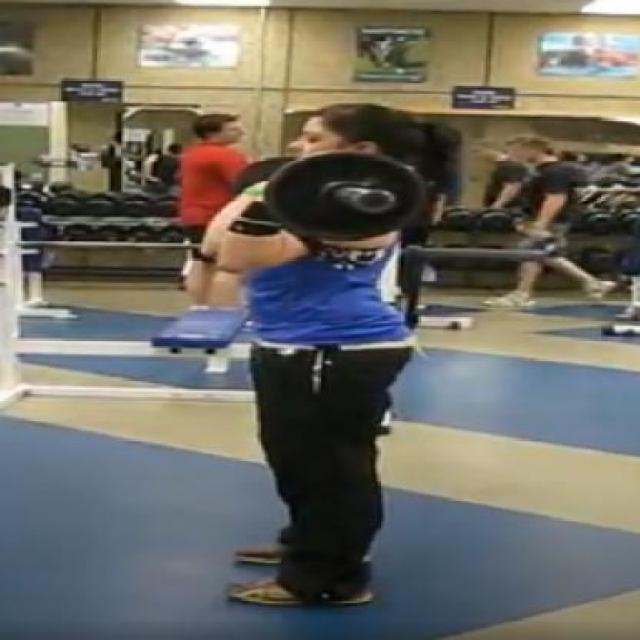Barbell: (352, 187, 403, 216)
